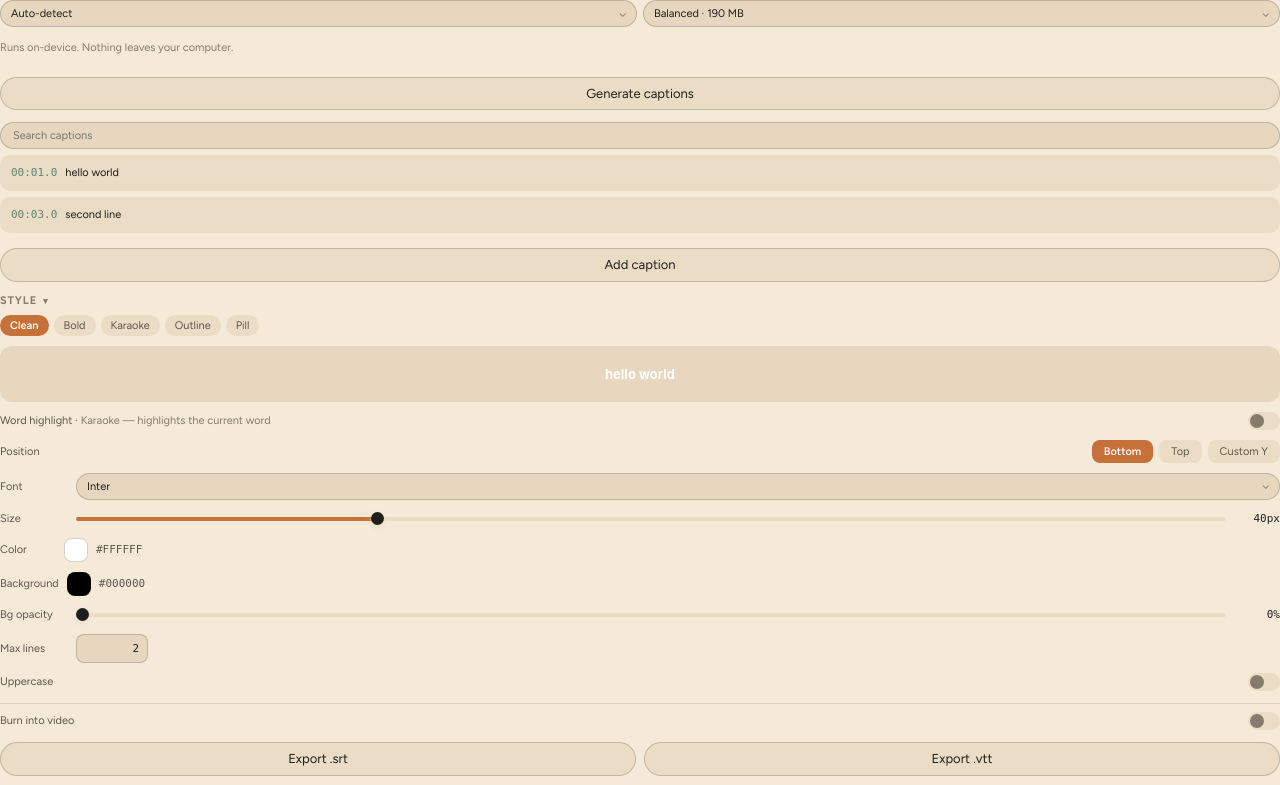
Test: CaptionsInspector — search & add › adds a caption at the playhead and focuses it
Harness playhead is 99s — open space after the last caption.
Click the button "Add caption" at (640, 265), box [0,248,1279,282]
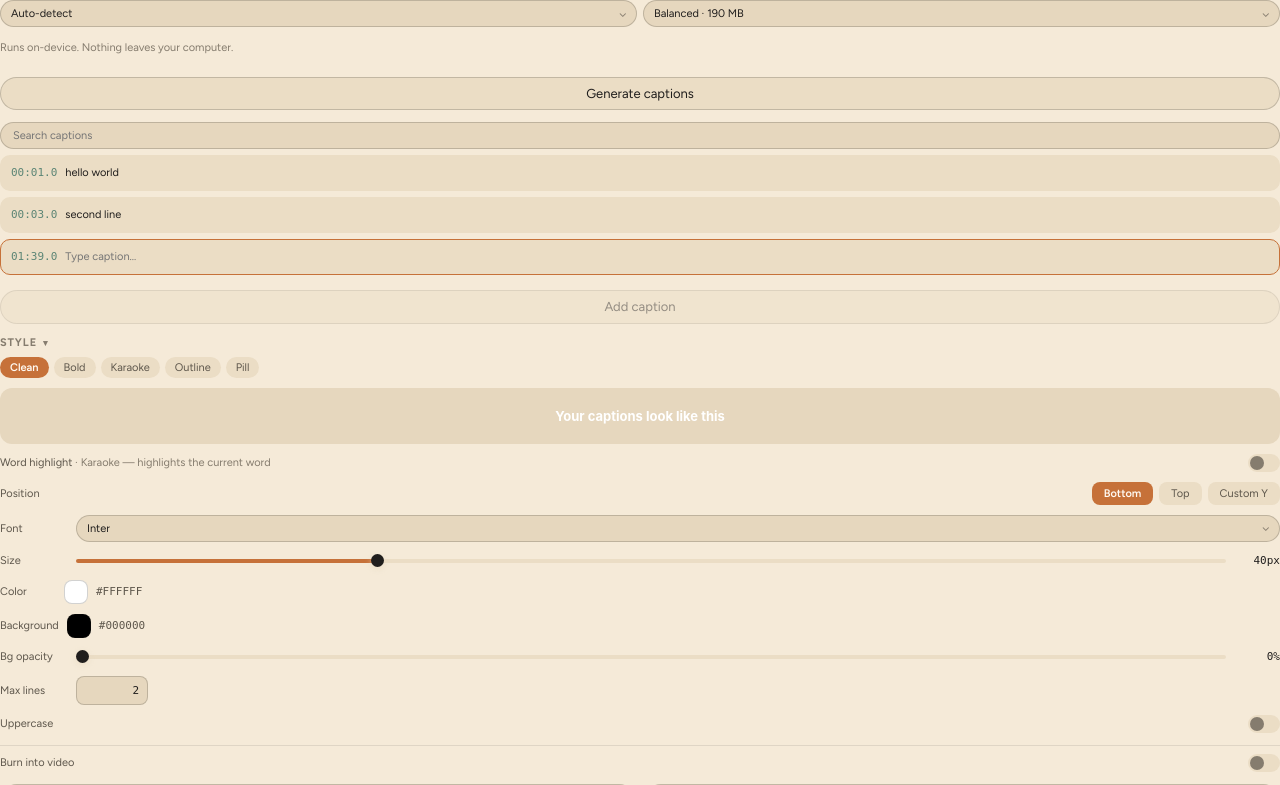
Result: the number of text boxes is 3 at [65,165,1269,181]; [65,207,1269,223]; [65,249,1269,265]
